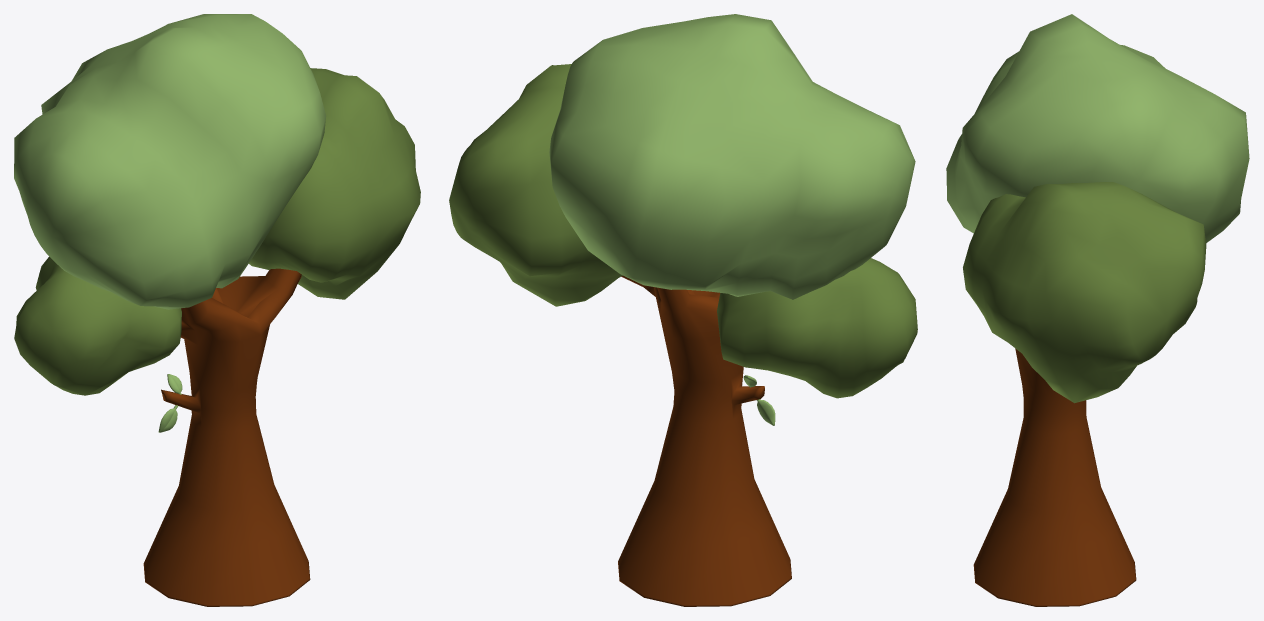
File: tree.fbx
3 renders of one model, left to right at view 1: azimuth 30°, elevation 25°; view 2: azimuth 150°, elevation 25°; view 3: azimuth 270°, elevation 25°, orthographic. The views are drawn at different scales.
Visible parts, largest first — view 1: tree; view 2: tree; view 3: tree.
Boxes of the visible parts, x1,y1,x2,y2 form: tree: (14, 14, 420, 606); tree: (449, 14, 917, 606); tree: (946, 14, 1249, 606).
Size of the model in its own units: 16.21 by 20.65 by 10.72.
